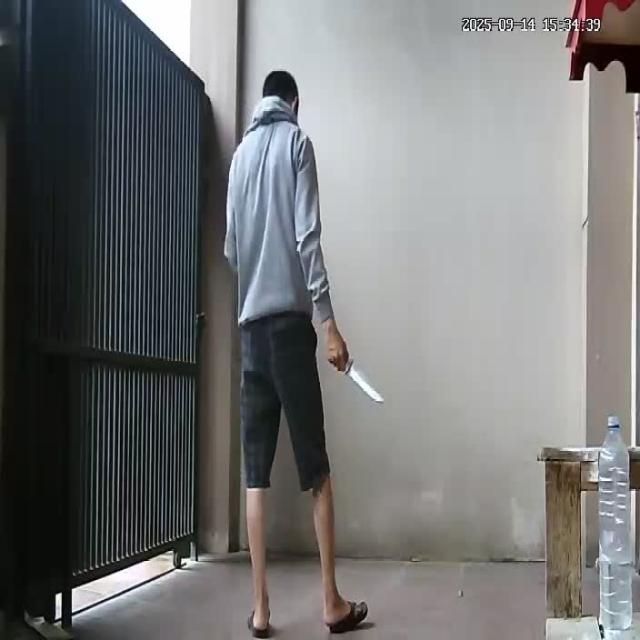senjata_tajam: (344, 362, 387, 404)
